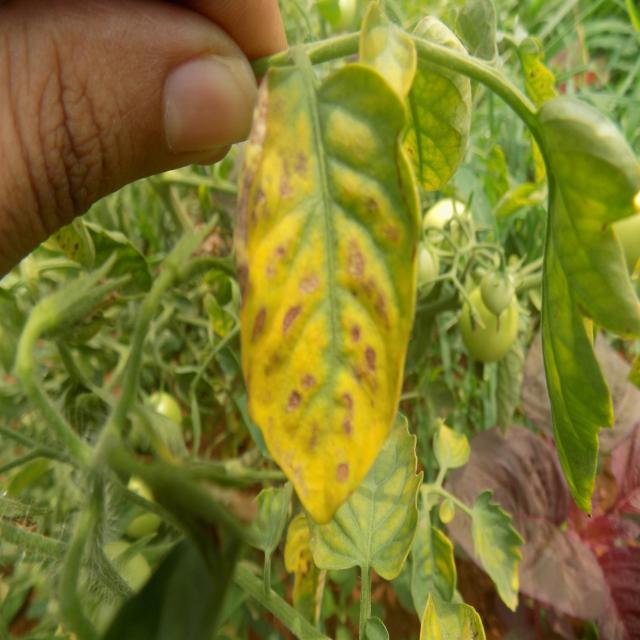tomato_early blight: (240, 48, 423, 522)
